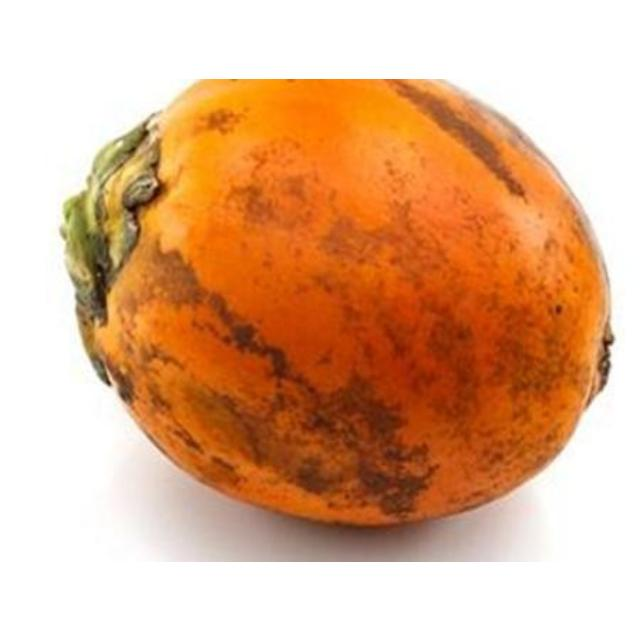good: (61, 78, 612, 530)
